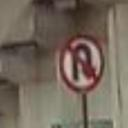NoVirarU: (57, 33, 108, 97)
